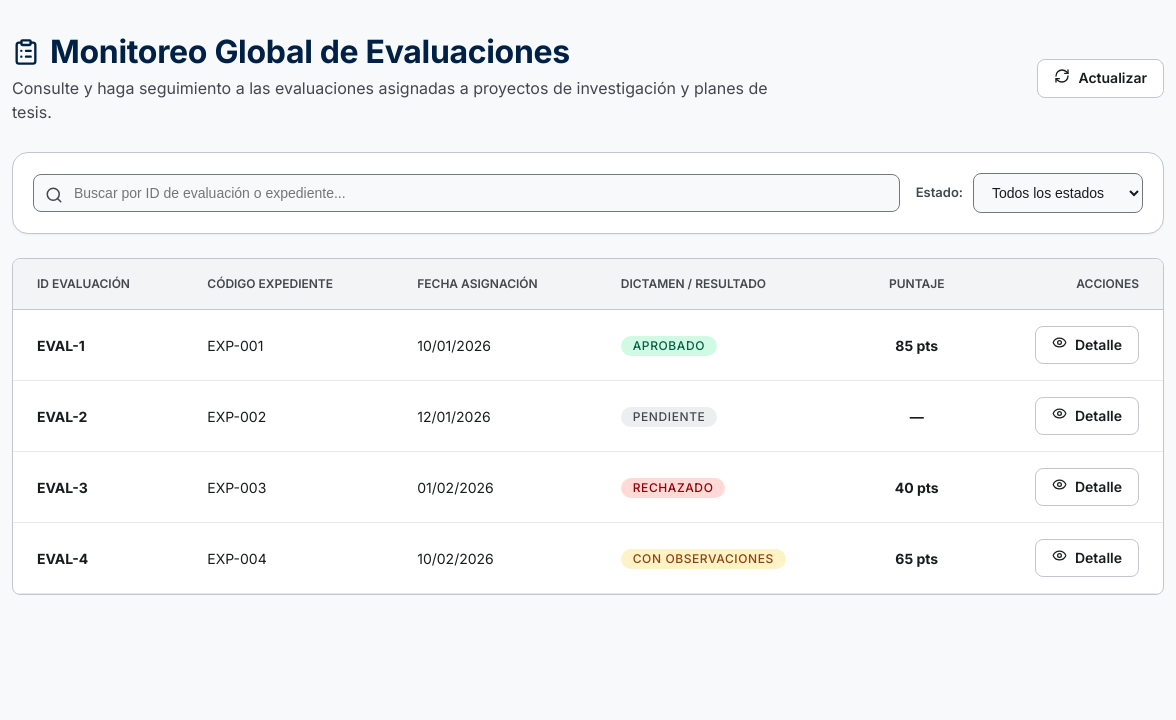
Test case: DirectorEvaluations › filters by status - APROBADO
expect the text "EXP-001" is shown: met, box x1=183 y1=310 x2=393 y2=380
Select "Aprobados" in the dropdown at (1058, 193), box x1=973 y1=173 x2=1143 y2=213
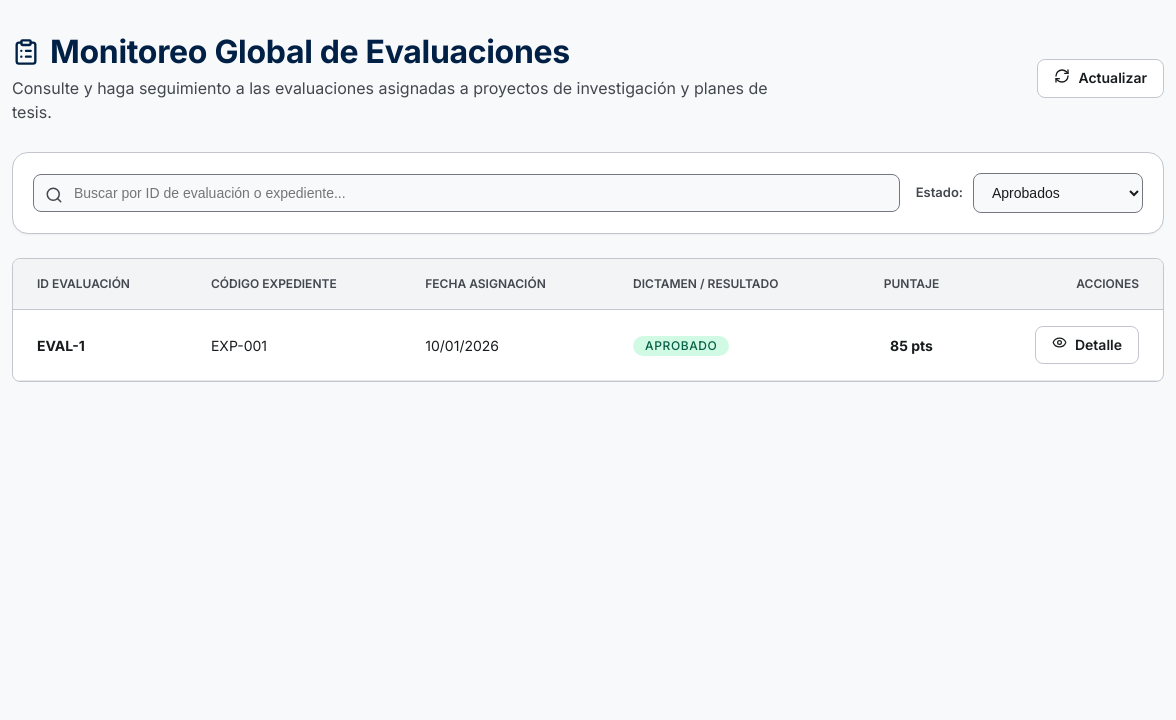
expect the text "EXP-001" is shown: met, box x1=187 y1=310 x2=401 y2=380
expect the text "EXP-002" is gone: met
expect the text "EXP-003" is gone: met
